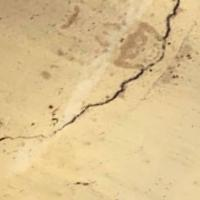crack: (1, 2, 183, 150)
